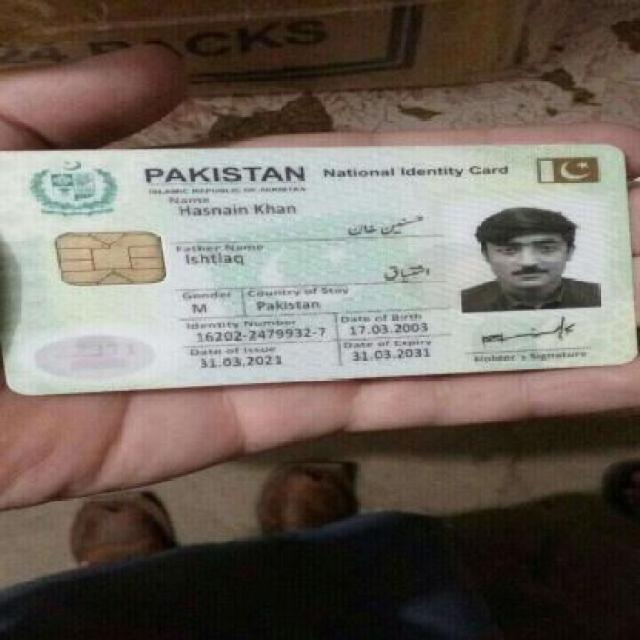Front: (8, 132, 632, 377)
